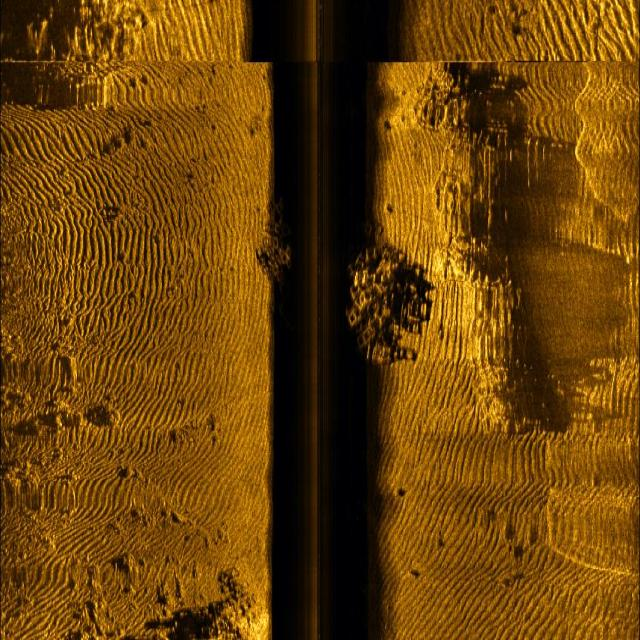artificial reef: (346, 242, 417, 368), (251, 190, 300, 302)
